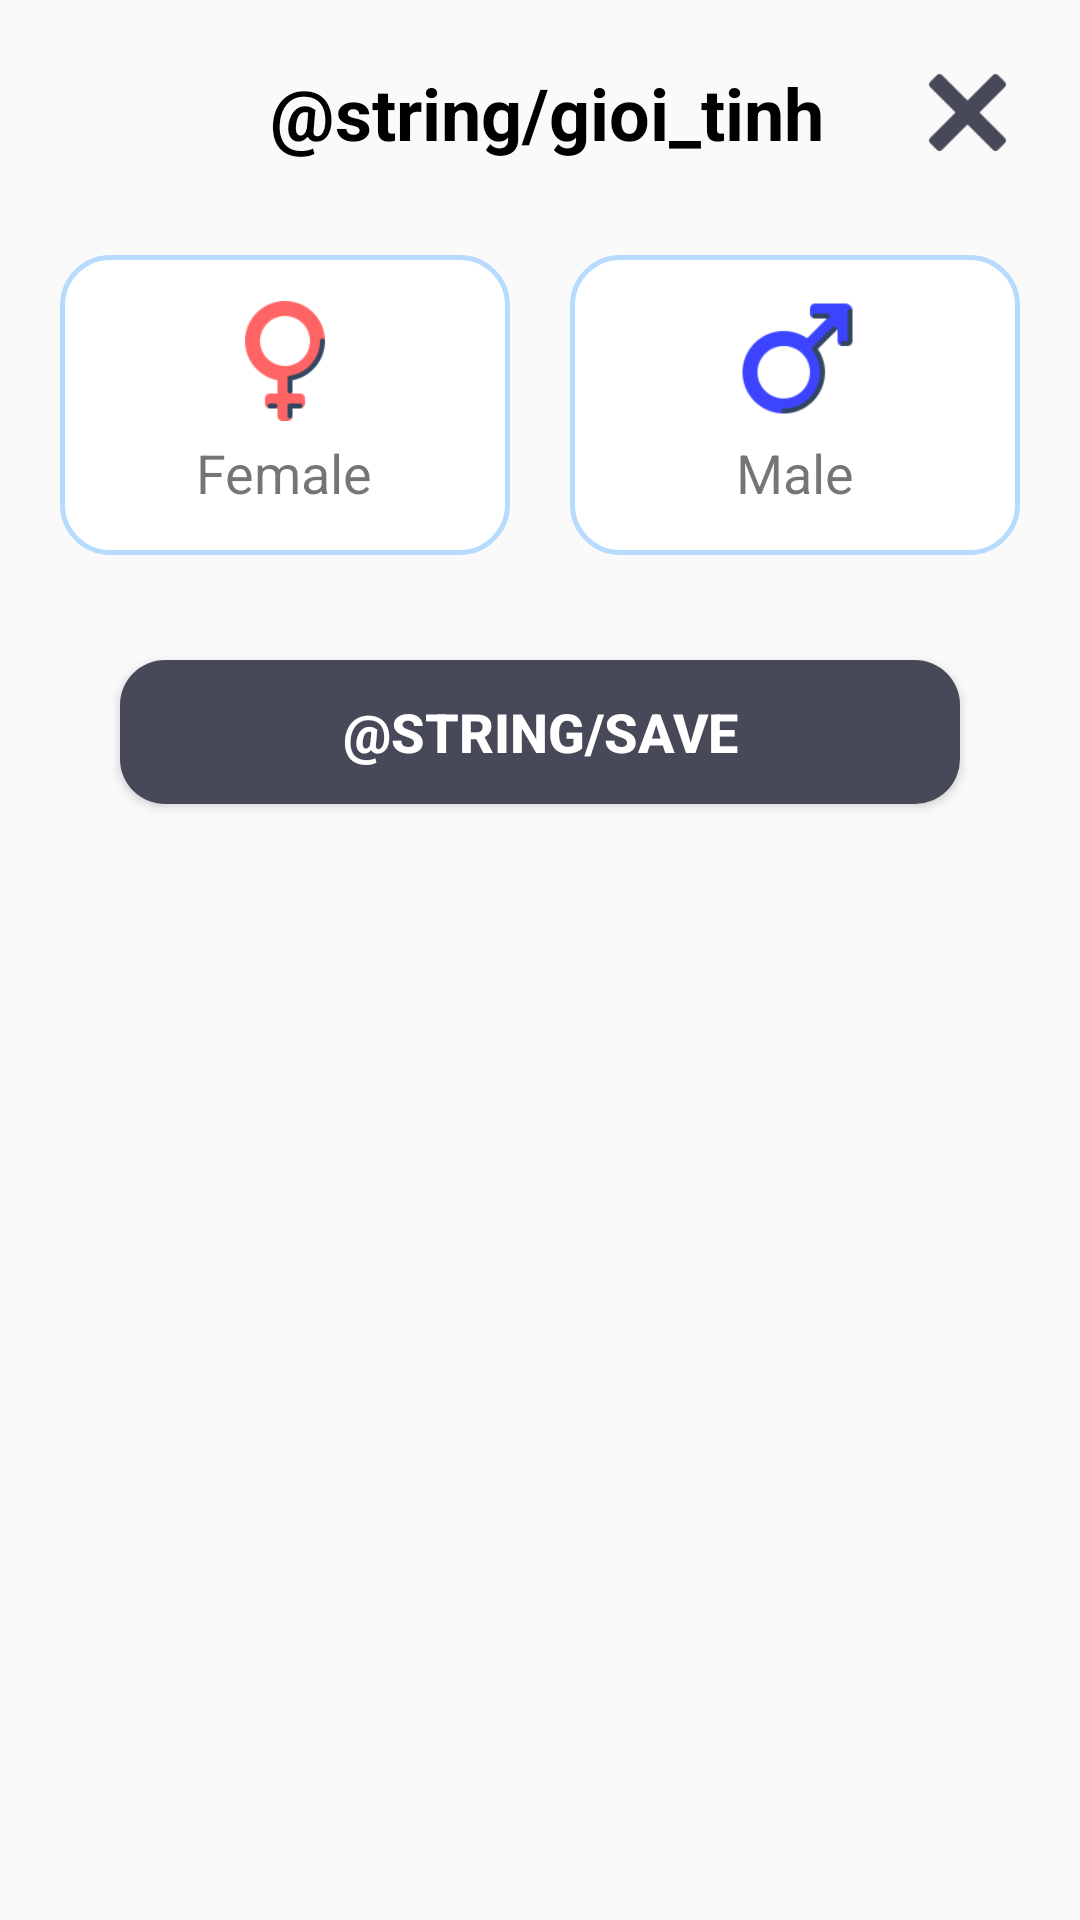

Where to tap for icons on this 1080*1920 app screen, as (x,y):
close: (967,112)
